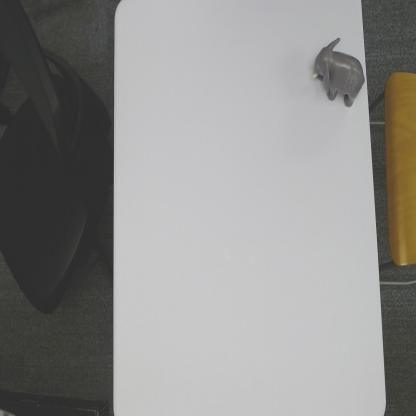Elephant: (310, 37, 365, 108)
